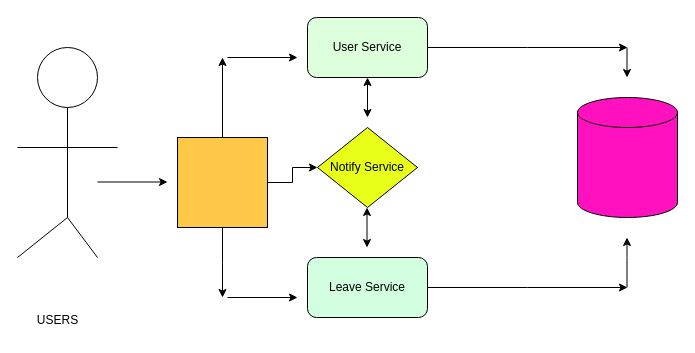
Image size: 695x353. Some labels were removed from this diagram. The shapes that lost their labels are listed below. From the top down, each one's box as (x1, y1, x2, y2) in pixels, then its label:
(576, 96, 678, 218): DB
(176, 136, 268, 228): APi Gate Way
